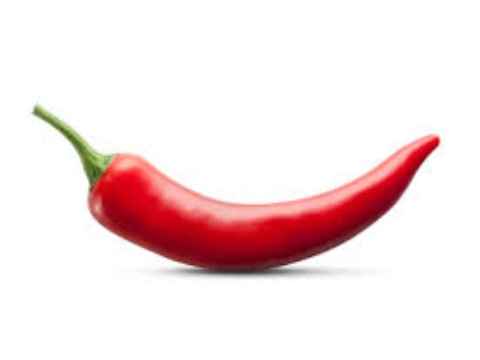Chilli: (20, 96, 454, 272)
